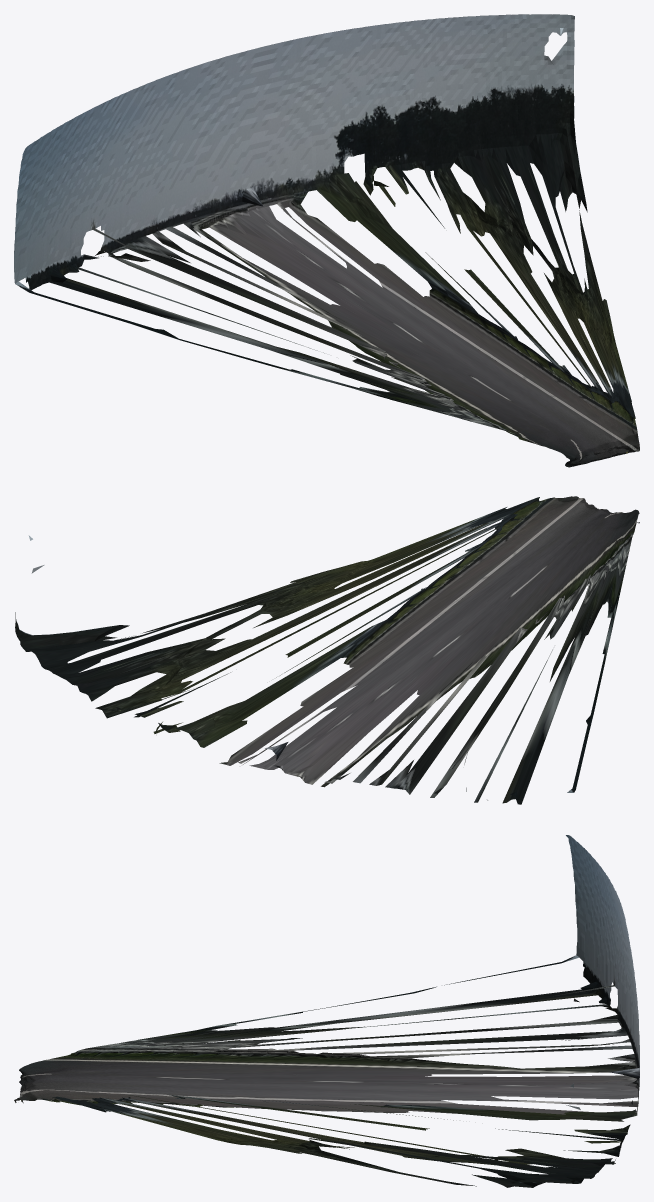
3 views of the same model, one above another, from view 1: azimuth 30°, elevation 25°; view 2: azimuth 150°, elevation 25°; view 3: azimuth 270°, elevation 25° (orthographic). The views are drawn at different scales.
Parts seen in each view (by area): view 1: defaultobject; view 2: defaultobject; view 3: defaultobject.
Part boxes in pixels (x1,y1,x2,y2): defaultobject: (14, 14, 639, 467); defaultobject: (15, 496, 639, 804); defaultobject: (14, 835, 639, 1187).
Size of the model in its own units: 41.11 by 12.4 by 44.58.
1 material, 1 textured.
